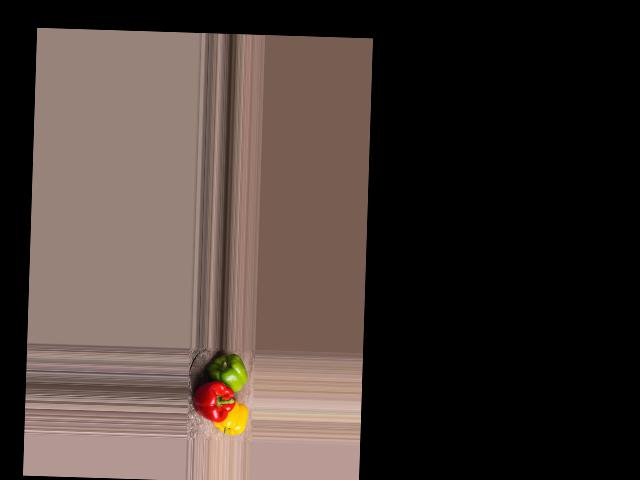bell_pepper: (212, 402, 250, 435)
